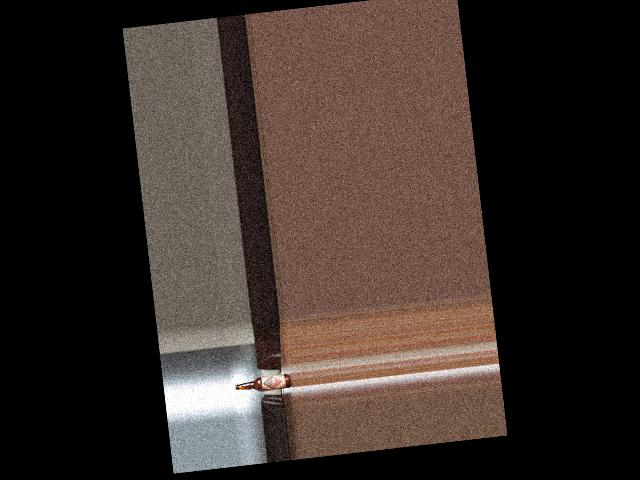beer: (235, 374, 291, 394)
